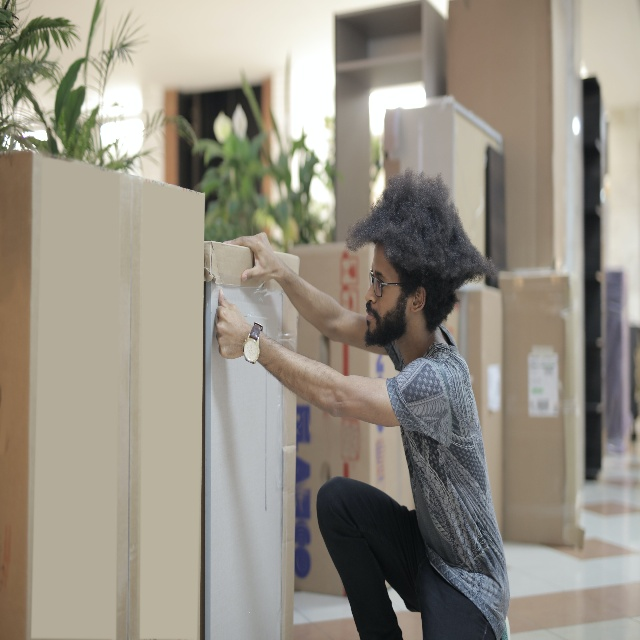Gafas: (369, 270, 408, 297)
Sin_guantes: (222, 231, 279, 282), (215, 287, 251, 361)
